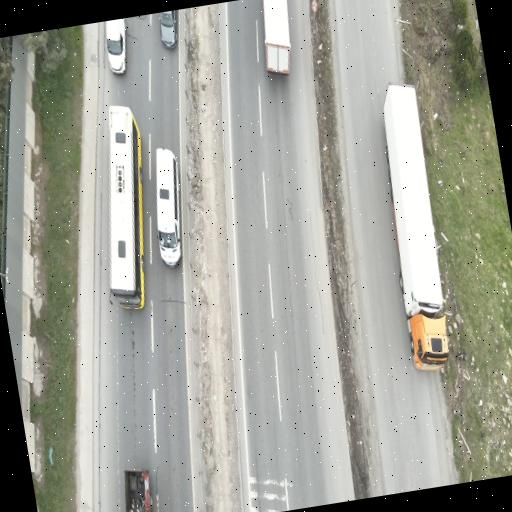bus: (109, 106, 144, 309)
car: (157, 148, 181, 266), (106, 18, 126, 73), (160, 10, 177, 48)
truck: (384, 83, 449, 369), (263, 0, 290, 74), (125, 470, 152, 511)
